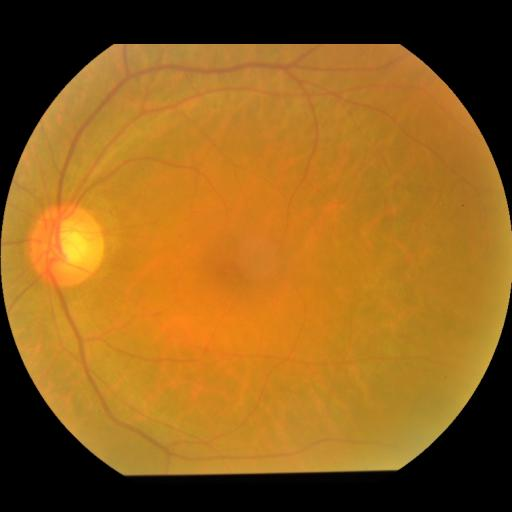Optic Cup: (51, 224, 88, 268)
Optic Disc: (29, 203, 104, 286)
